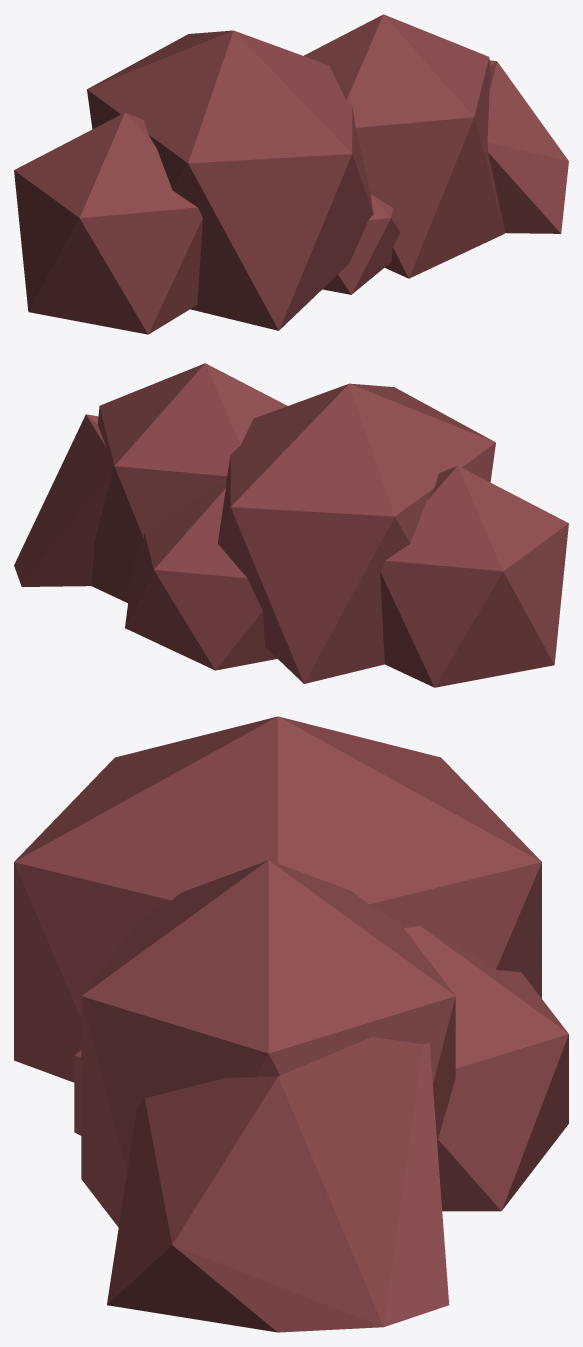
Rendered from bushlowpoly_3.fbx.
3 views of the same model, one above another, from view 1: azimuth 30°, elevation 25°; view 2: azimuth 150°, elevation 25°; view 3: azimuth 270°, elevation 25° (orthographic). The views are drawn at different scales.
Parts seen in each view (by area): view 1: bush 3; view 2: bush 3; view 3: bush 3.
Part boxes in pixels (x1,y1,x2,y2): bush 3: (14, 14, 568, 334); bush 3: (14, 363, 568, 687); bush 3: (14, 716, 568, 1332).
Bounding box in the file's own units: 476 × 204 × 276.
